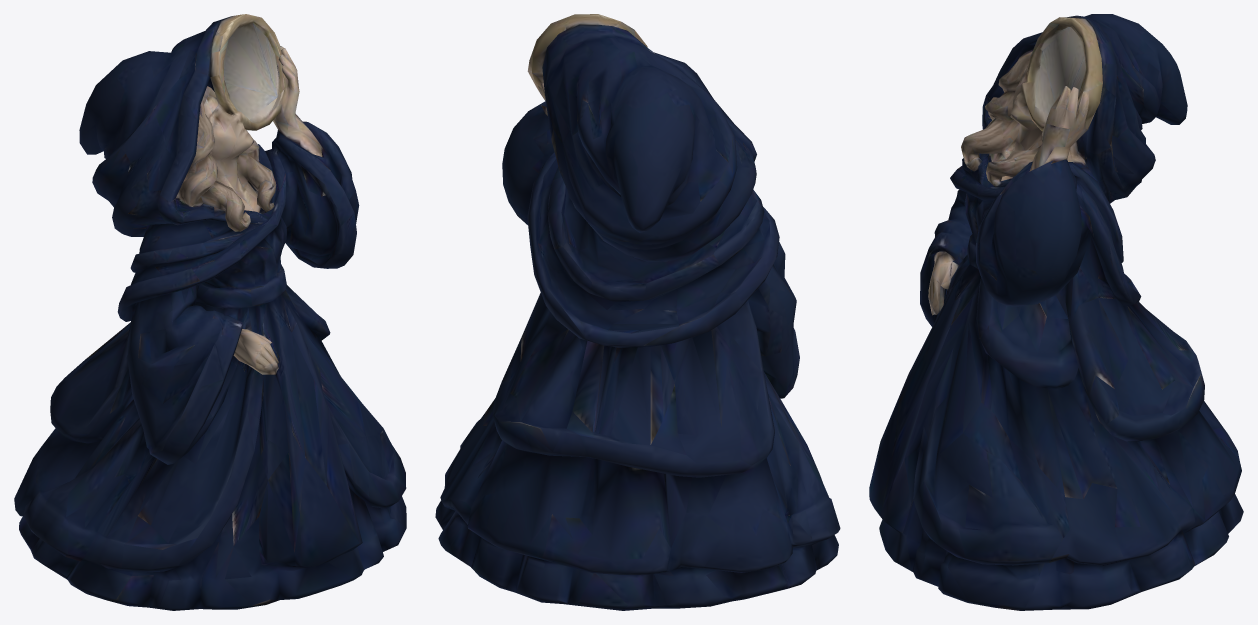
The model's file is the_astronomer.glb.
The picture shows the model from 3 angles, left to right: view 1: azimuth 30°, elevation 25°; view 2: azimuth 150°, elevation 25°; view 3: azimuth 270°, elevation 25°; orthographic projection. The views are drawn at different scales.
Bounding box in the file's own units: 0.7378 × 1 × 0.644.
Materials: 1 (1 with a texture image).
